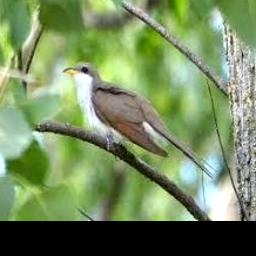Cuckoo: (62, 62, 216, 178)
